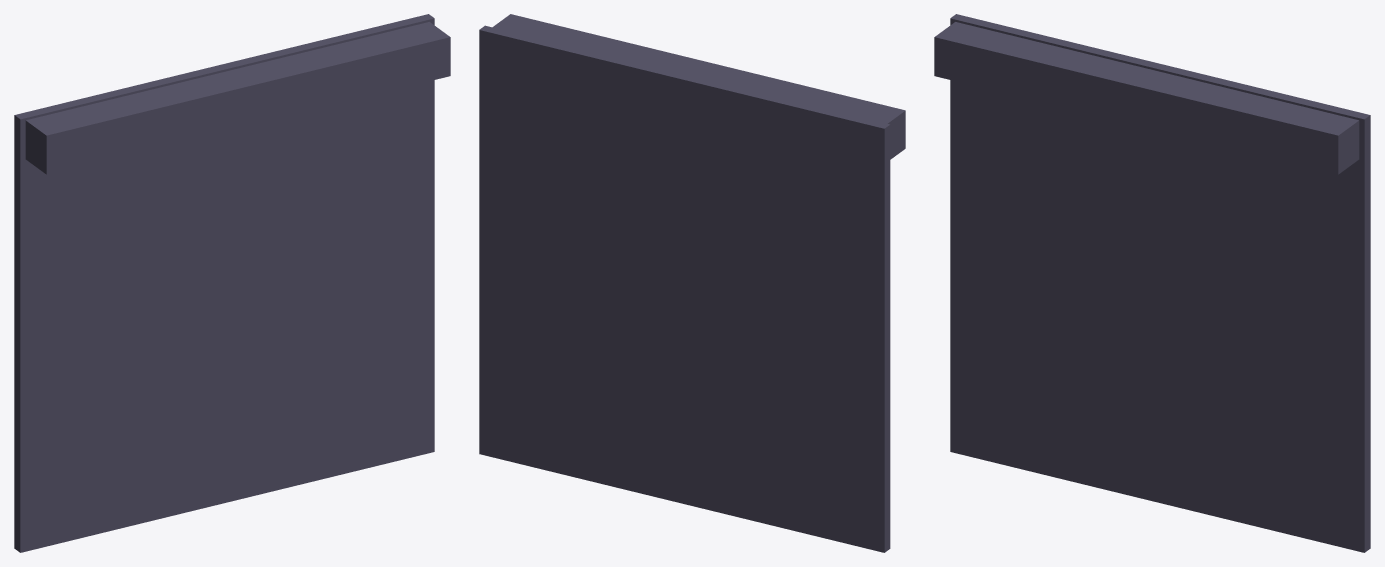
File: level_zero.gltf
3 renders of one model, left to right at view 1: azimuth 30°, elevation 25°; view 2: azimuth 150°, elevation 25°; view 3: azimuth 330°, elevation 25°, orthographic. The views are drawn at different scales.
Visible parts, largest first — view 1: Floor, Wall; view 2: Floor, Wall; view 3: Floor, Wall.
Boxes of the visible parts, box(x1,y1,x2,y2) form: Floor: box(14, 14, 434, 552); Wall: box(25, 22, 450, 174); Floor: box(479, 25, 890, 552); Wall: box(492, 14, 905, 159); Floor: box(950, 14, 1370, 552); Wall: box(934, 22, 1359, 174).
Bounding box in the file's own units: 10 × 10 × 1.12.
